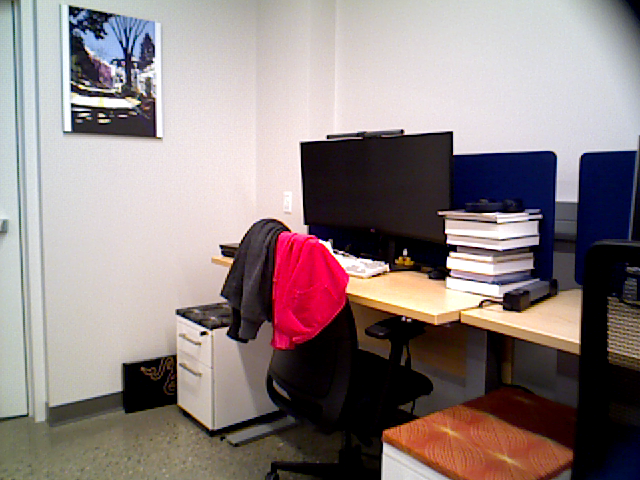painting3: (59, 3, 165, 143)
